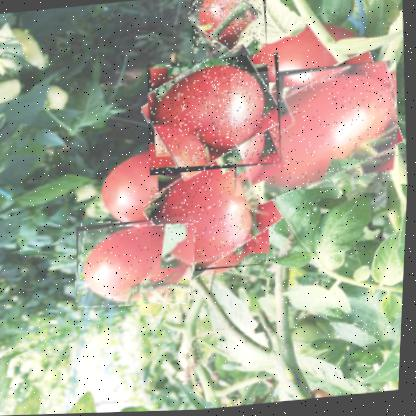tomato: (226, 61, 404, 198), (142, 53, 285, 177), (145, 152, 283, 277), (73, 216, 200, 312), (186, 0, 269, 56)
